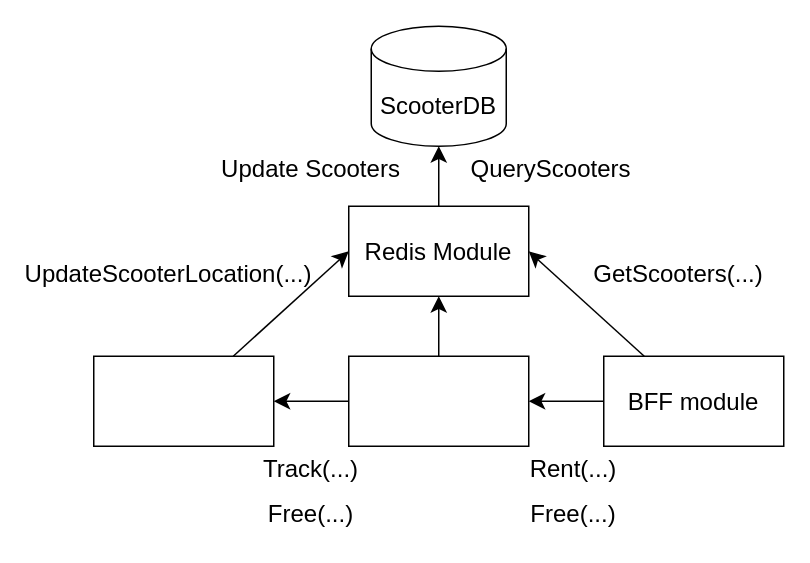
Image size: 810x563. Some labels were removed from this diagram. The shapes that lost their labels are listed below. From the top down, each one's centre as x and y in pixels, then its label:
At point 183,400: "Tracking Module".
At point 438,400: "Rental Module".
